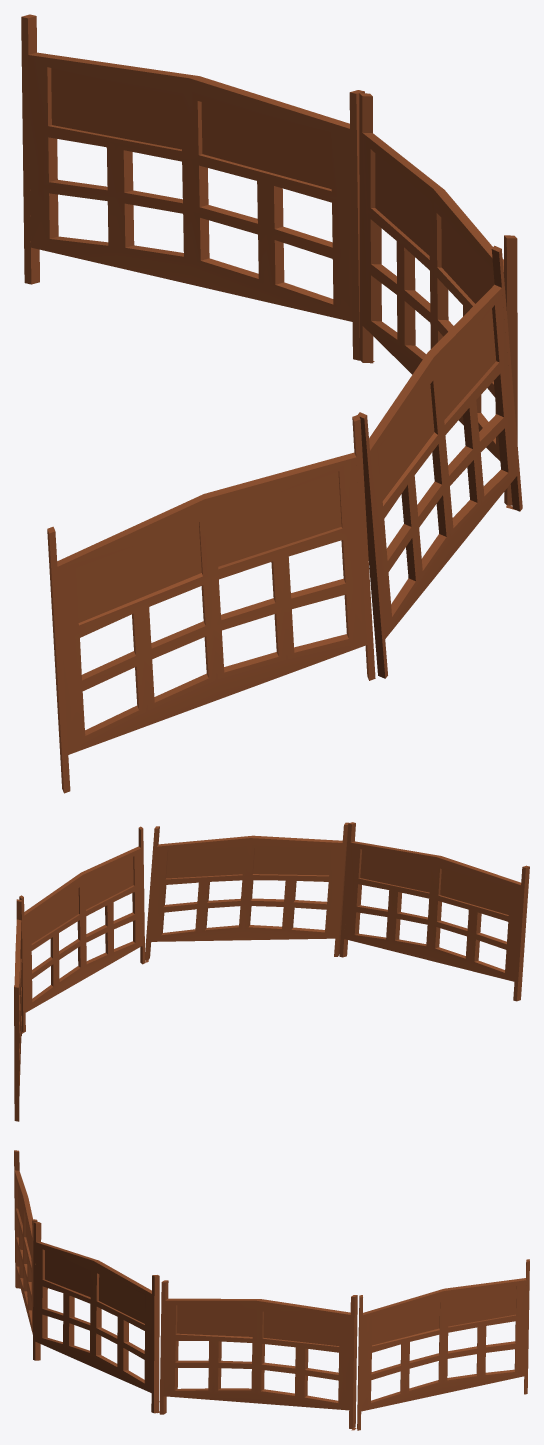
Rendered from weilan.FBX.
3 renders of one model, top to bottom at view 1: azimuth 30°, elevation 25°; view 2: azimuth 150°, elevation 25°; view 3: azimuth 270°, elevation 25°, orthographic. The views are drawn at different scales.
Visible parts, largest first — view 1: 对象002; view 2: 对象002; view 3: 对象002.
Part boxes in pixels (x1,y1,x2,y2): 对象002: (21,14,522,793); 对象002: (14,822,529,1121); 对象002: (14,1150,529,1430).
Size of the model in its own units: 2.75 by 1.2 by 3.7.
